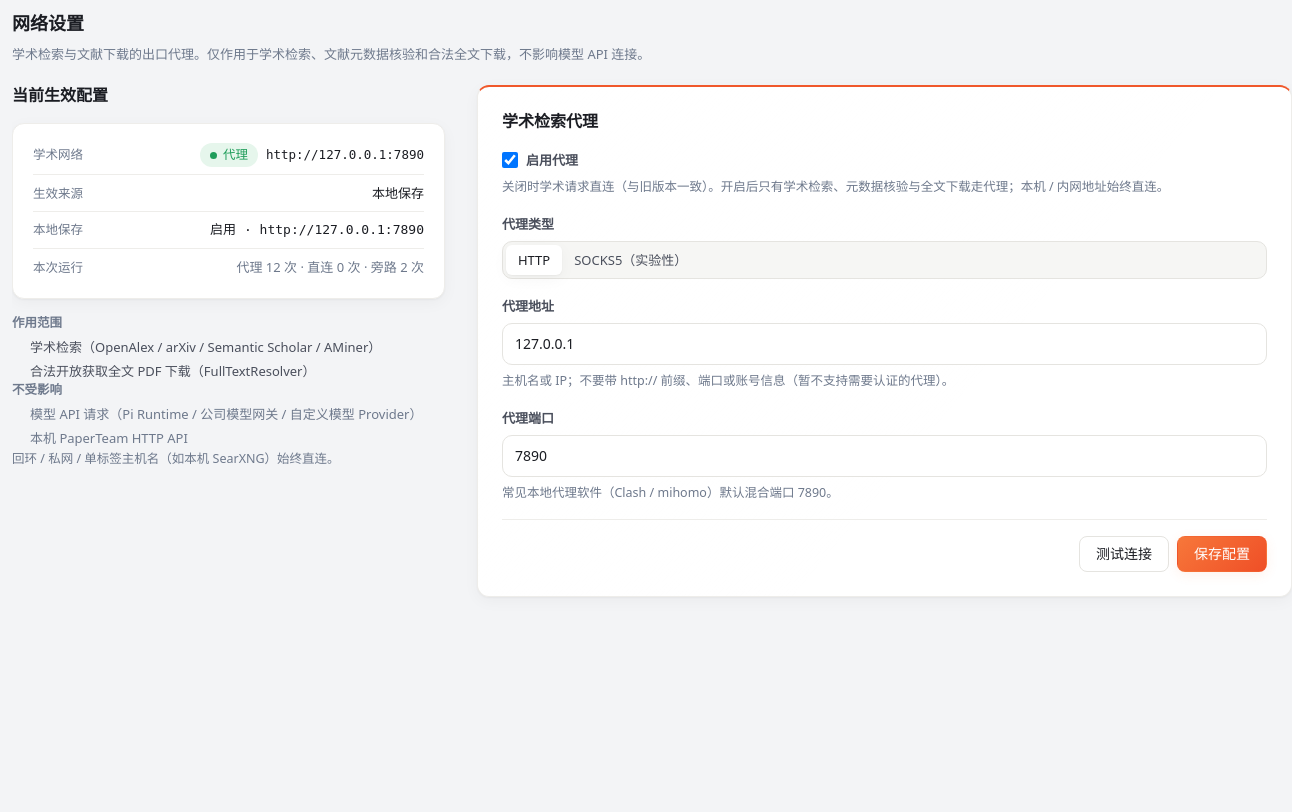
Test: NetworkSettingsPage › 代理不可连接的测试结果：显示未探测项与失败说明
Expected: the form with test id "network-form" is shown, [477,86,1291,597]
Click the button with test id "network-test": (1124, 554) [1079,536,1169,572]
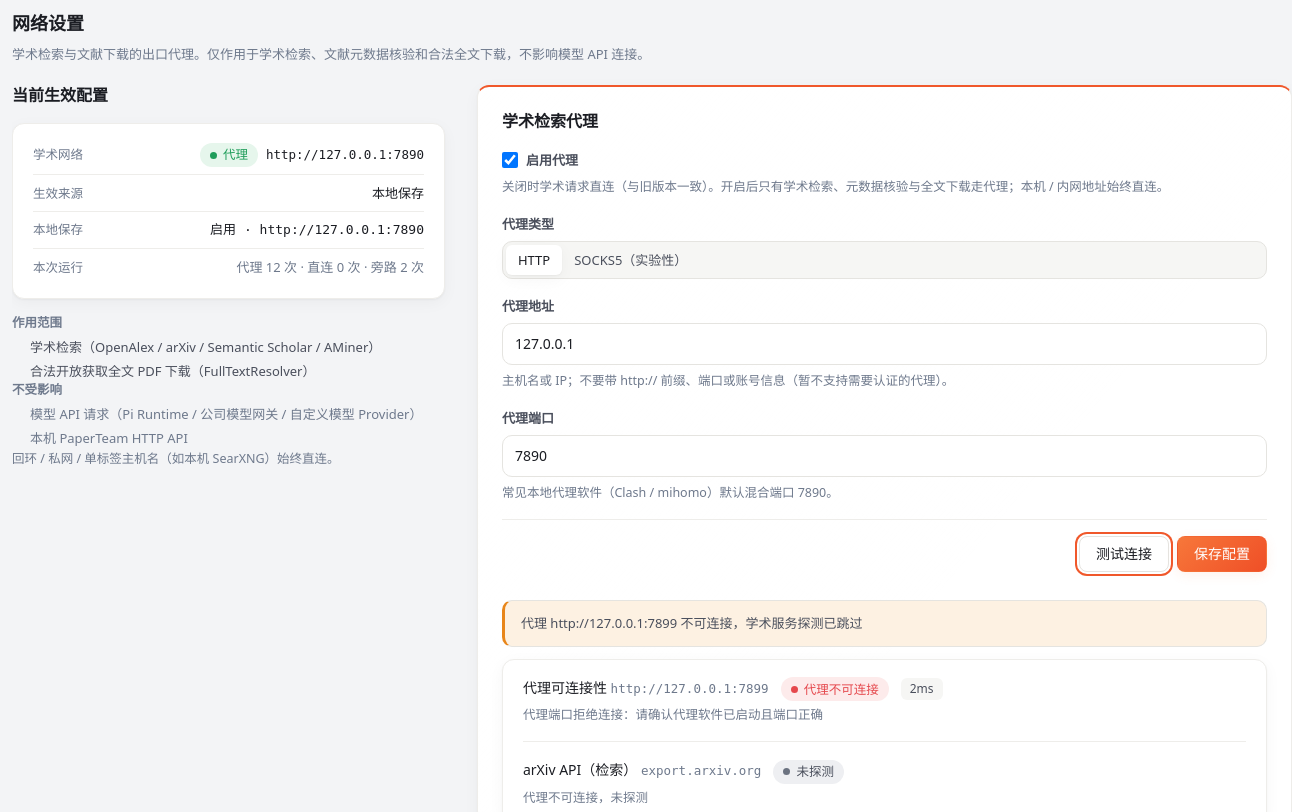
Now the element with test id "network-test-result" shows "不可连接", box [521,614,863,632]
Now the text with test id "network-check-status-proxy" reads "代理不可连接", box [804,681,879,698]
Now the text with test id "network-check-status-arxiv_api" reads "未探测", box [796,763,834,780]
